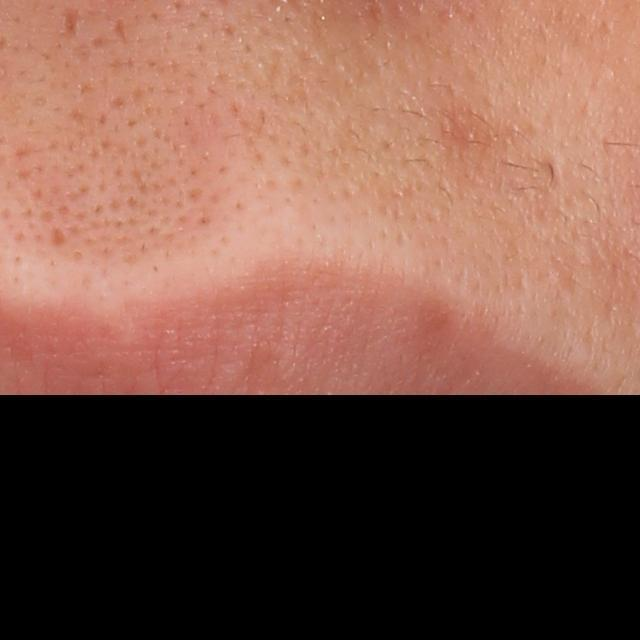atrophic_scar: (61, 9, 83, 39), (111, 17, 128, 49)
